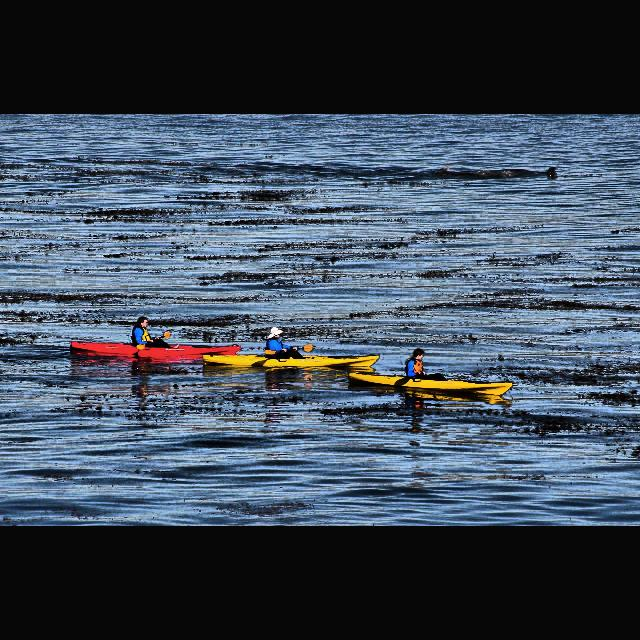kayak: (346, 371, 514, 397), (203, 353, 379, 369), (70, 341, 242, 357)
